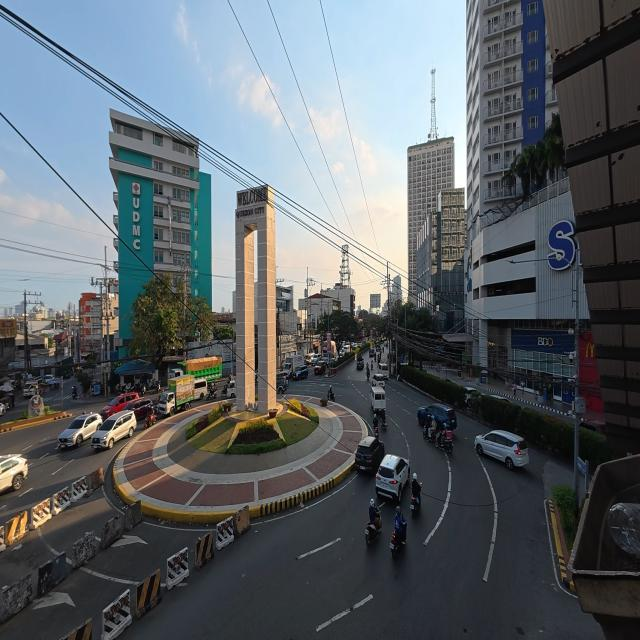car: (475, 430, 528, 469), (92, 411, 136, 449), (376, 455, 409, 502), (58, 414, 102, 448), (101, 392, 138, 420), (418, 403, 456, 430), (355, 436, 384, 471), (0, 455, 27, 491), (125, 398, 153, 422), (580, 420, 605, 434), (464, 387, 480, 406), (276, 373, 288, 394), (293, 365, 308, 380), (490, 394, 512, 403), (371, 373, 384, 388), (315, 360, 326, 375), (44, 374, 54, 384), (357, 355, 364, 369), (311, 354, 319, 366), (0, 403, 6, 415), (369, 348, 375, 358), (339, 350, 347, 357), (376, 344, 381, 352)
motorcycle: (366, 520, 381, 546), (423, 417, 437, 443), (390, 531, 403, 557), (442, 425, 453, 453), (410, 495, 421, 516), (145, 409, 156, 428), (410, 496, 419, 516), (207, 384, 217, 399), (150, 381, 161, 393), (373, 418, 378, 437), (328, 389, 334, 401), (222, 384, 228, 396), (374, 424, 379, 438), (72, 387, 77, 399), (382, 419, 387, 430), (366, 369, 369, 380)
trucks: (168, 356, 222, 383), (158, 376, 194, 415), (282, 355, 304, 378)
vans: (371, 387, 385, 412), (195, 378, 207, 400), (23, 383, 38, 398), (380, 364, 388, 379)
